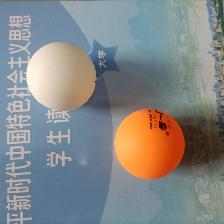WhiteBall: (25, 41, 96, 111)
YellowBall: (113, 108, 185, 179)
